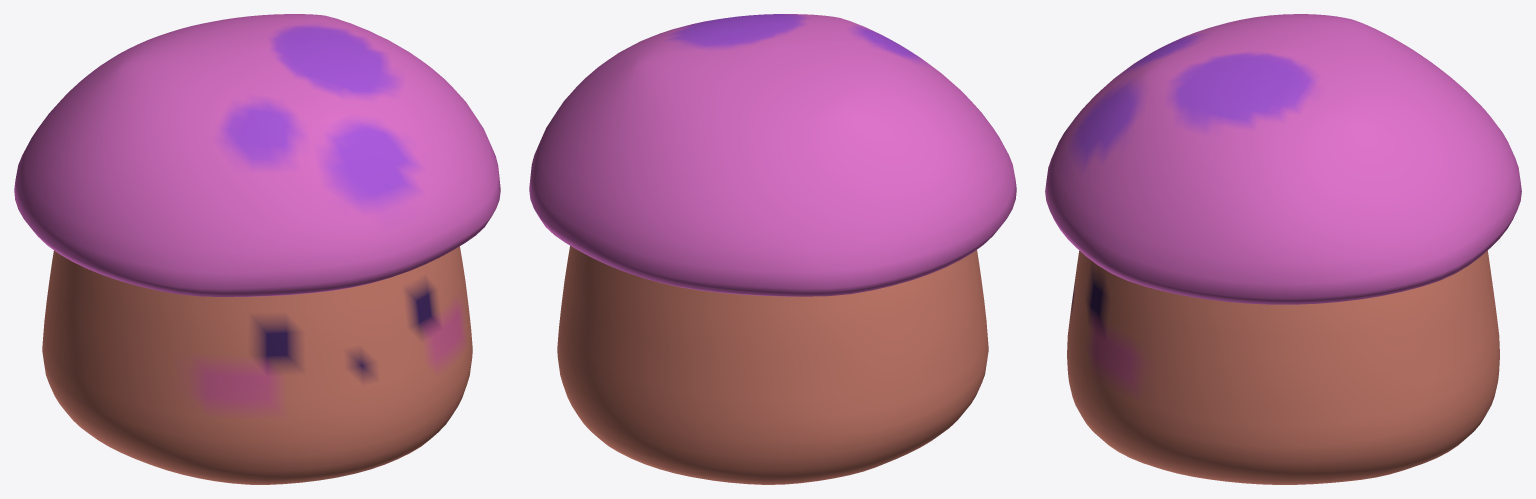
The model's file is Project (3).fbx.
3 renders of one model, left to right at view 1: azimuth 30°, elevation 25°; view 2: azimuth 150°, elevation 25°; view 3: azimuth 270°, elevation 25°, orthographic.
Visible parts, largest first — view 1: Cylinder (×2); view 2: Cylinder (×2); view 3: Cylinder (×2).
Boxes of the visible parts, <box> form: Cylinder (×2): <box>14,14,500,484</box>; Cylinder (×2): <box>529,14,1016,484</box>; Cylinder (×2): <box>1045,14,1521,484</box>.
Bounding box in the file's own units: 1.08 × 0.8944 × 1.05.
